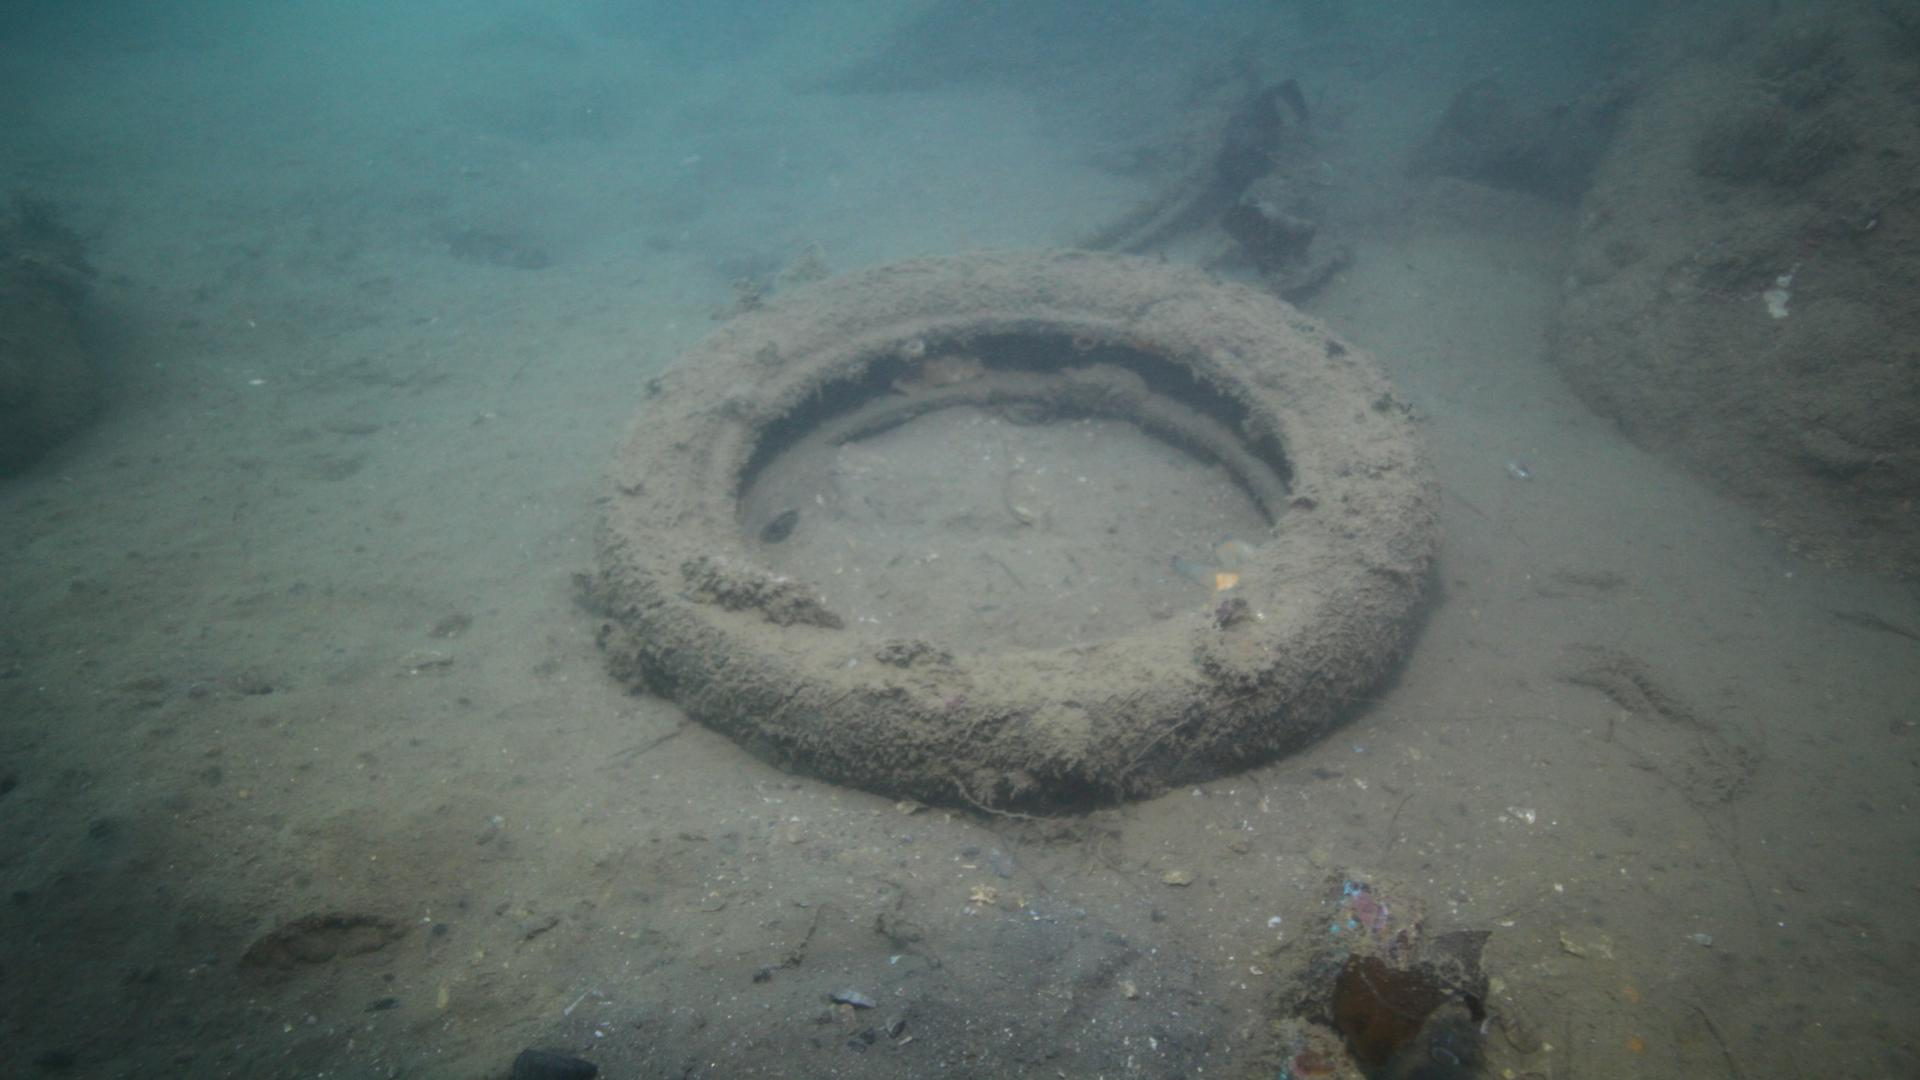tire: (593, 244, 1444, 814)
